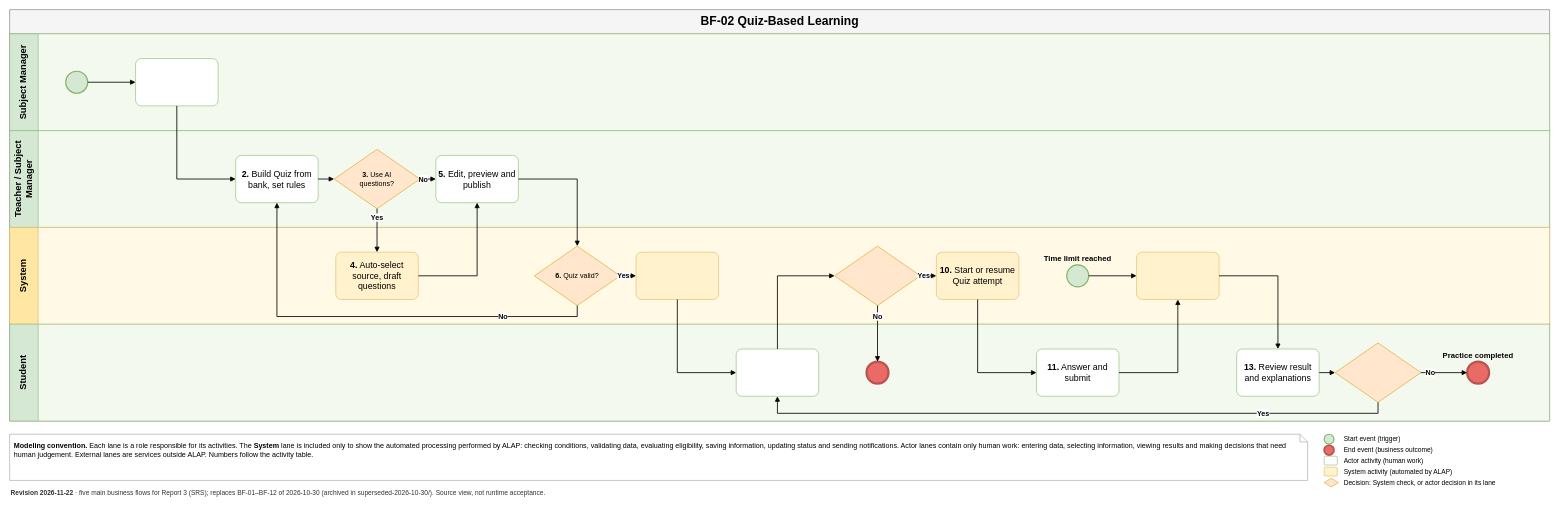
The diagram is 1559 pixels wide and 509 high, and some of its shapes have lost their labels. Each missing label, with the centre of its shape:
"1. Add, import or approve bank questions" belongs at pixel 176 82.
"12. Auto-submit if due, score attempt" belongs at pixel 1177 275.
"14. Practise again?" belongs at pixel 1378 372.
"7. Open practice Quiz, notify students" belongs at pixel 677 275.
"8. Start practice attempt" belongs at pixel 777 372.
"9. Attempt allowed?" belongs at pixel 877 276.
"Attempt refused" belongs at pixel 877 372.
"Bank update" belongs at pixel 76 82.
